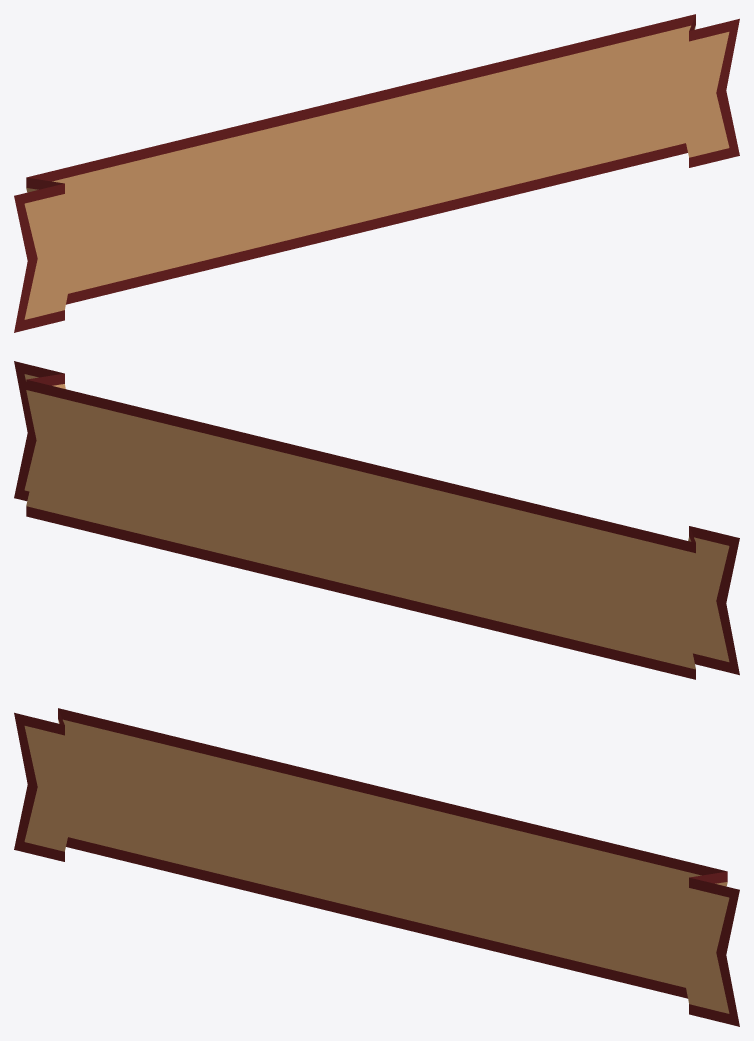
Rendered from MedievalUI.fbx_Banner.fbx.
3 renders of one model, top to bottom at view 1: azimuth 30°, elevation 25°; view 2: azimuth 150°, elevation 25°; view 3: azimuth 330°, elevation 25°, orthographic.
Visible parts, largest first — view 1: Banner; view 2: Banner; view 3: Banner.
Part boxes in pixels (x1,y1,x2,y2): Banner: [14, 14, 739, 332]; Banner: [14, 361, 739, 679]; Banner: [14, 708, 739, 1026].
Size of the model in its own units: 423 by 76.35 by 15.99.
